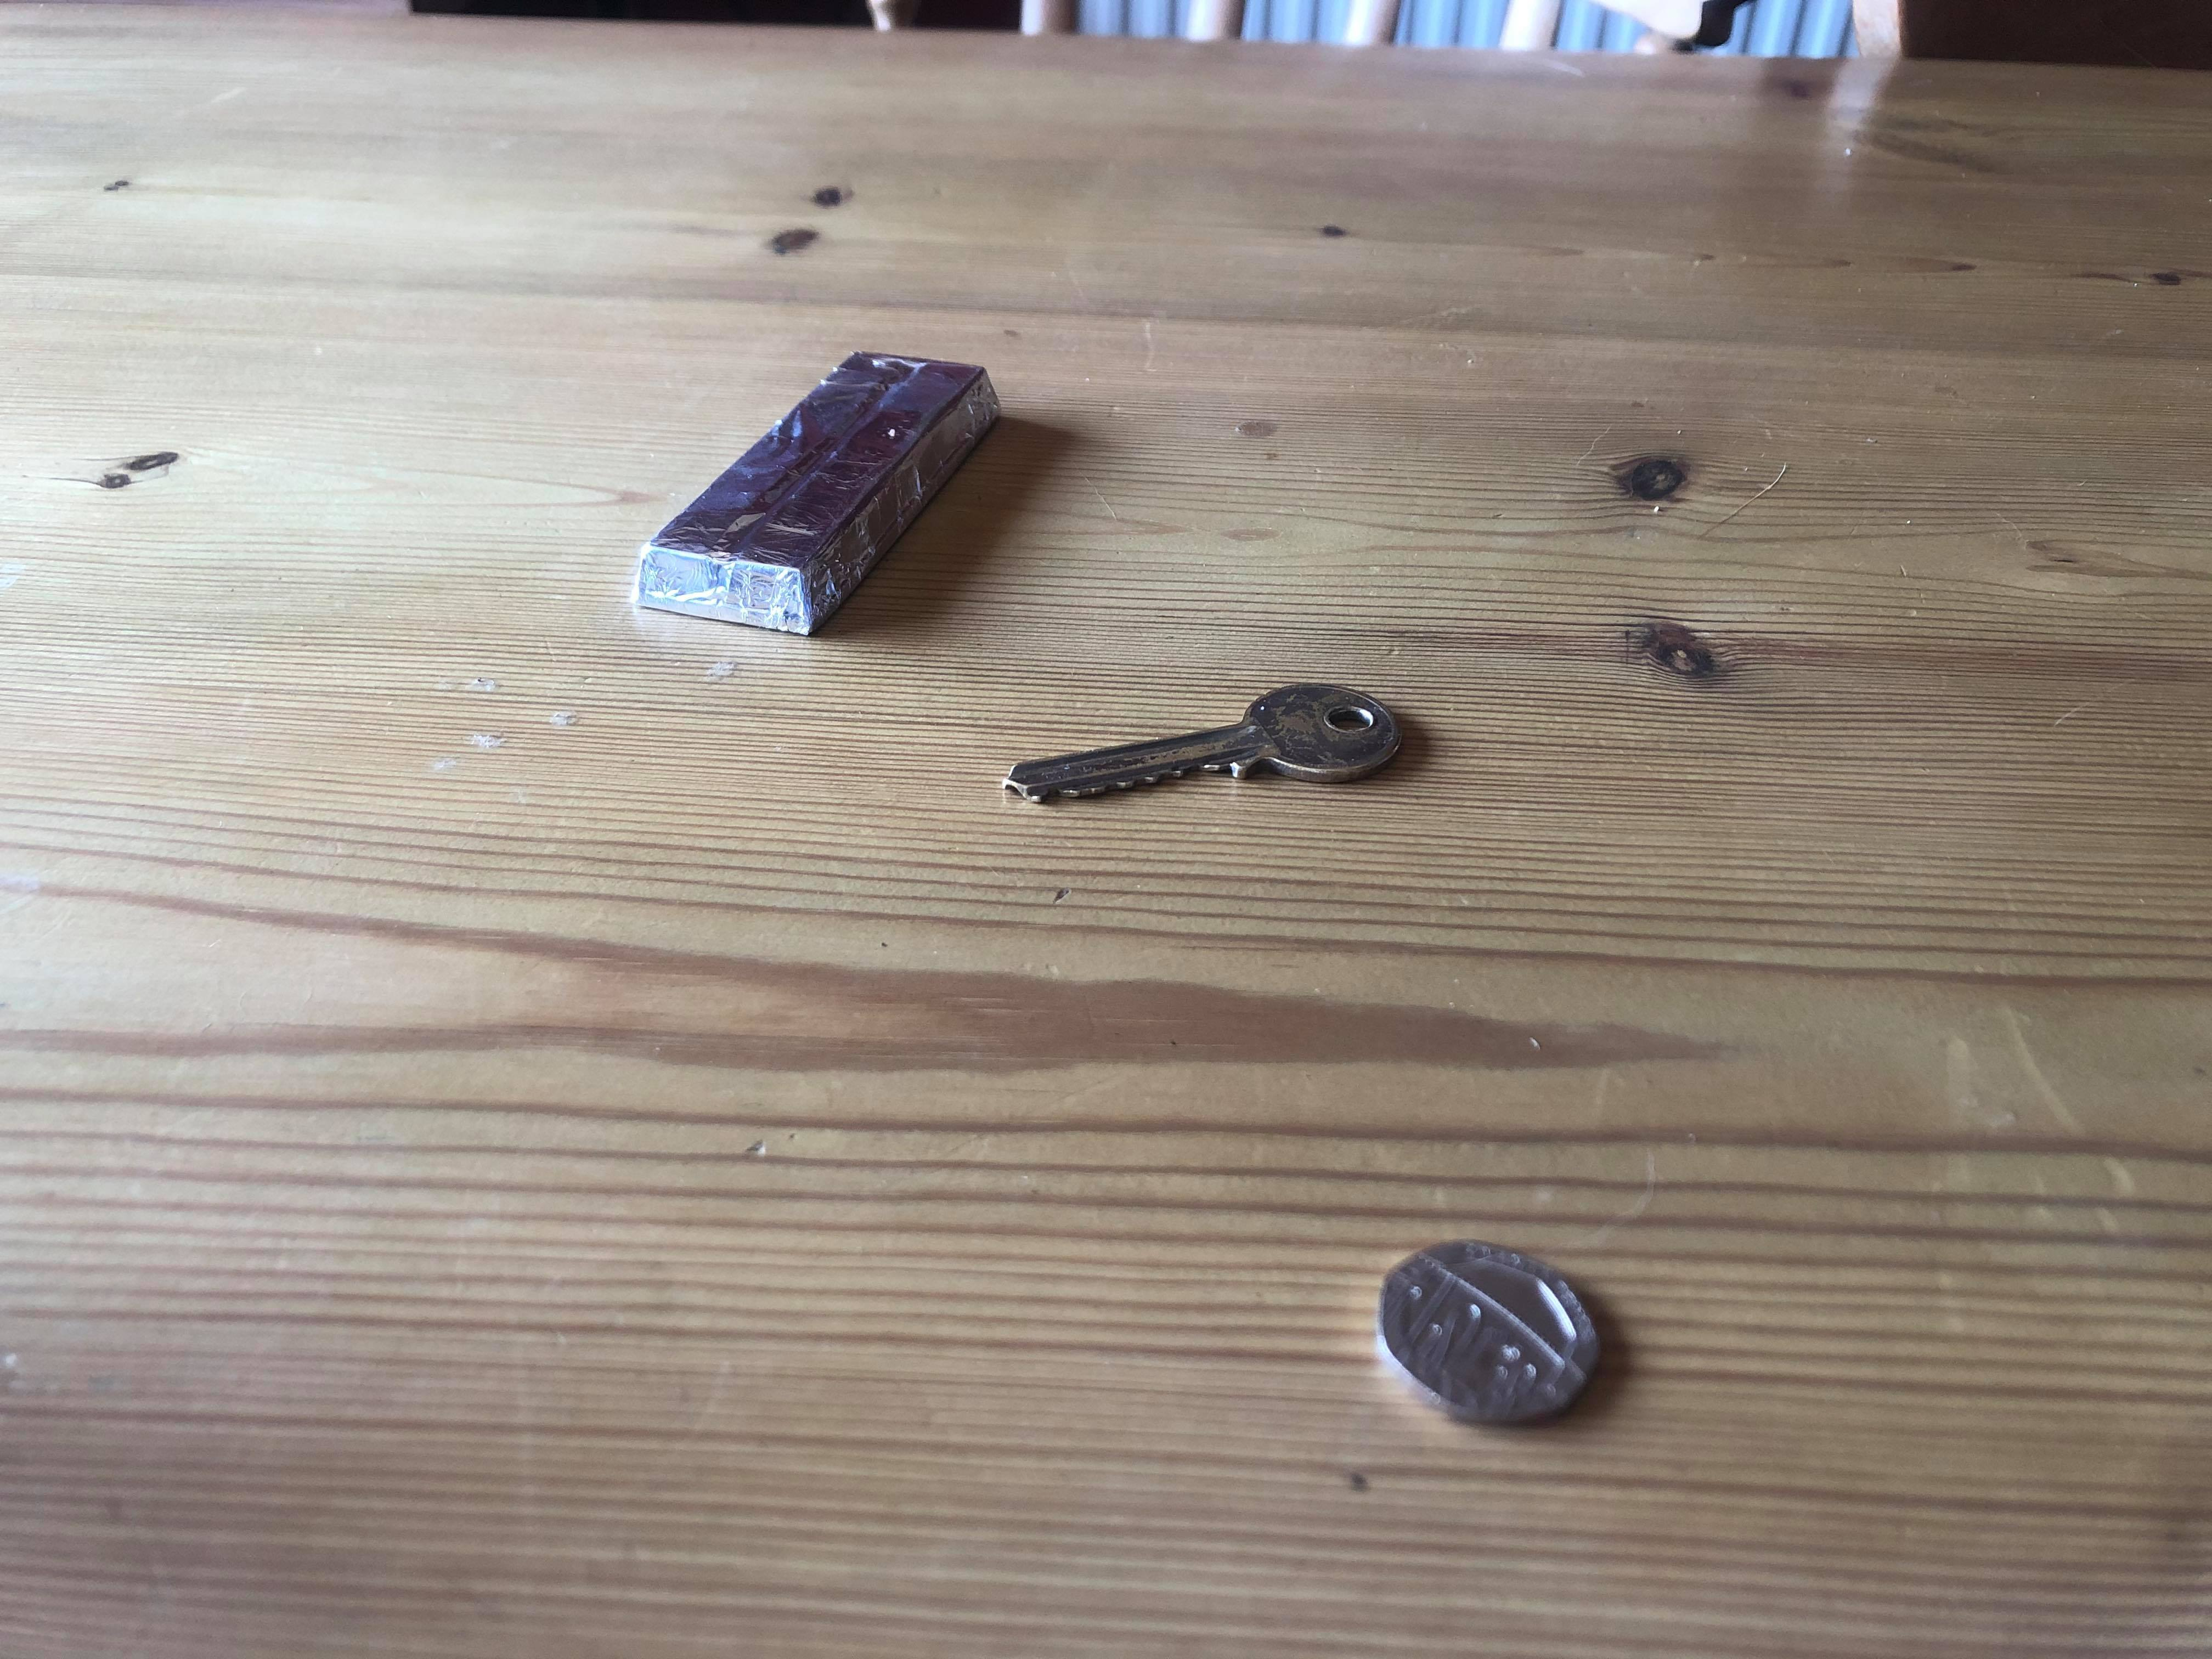Coin: (1369, 1232, 1608, 1427)
Foil: (620, 342, 1010, 645)
Key: (1003, 674, 1404, 826)
